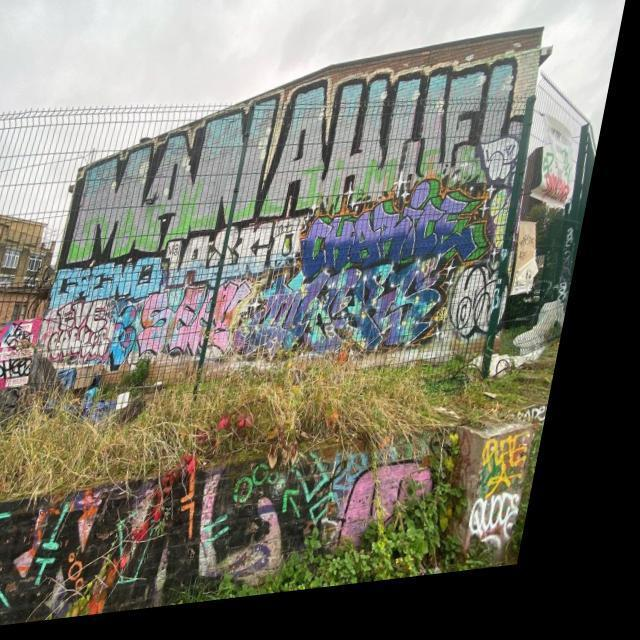-: (71, 60, 542, 269), (0, 464, 371, 636), (250, 263, 471, 376), (308, 205, 511, 292), (144, 286, 265, 375), (170, 229, 318, 291), (490, 446, 554, 556), (61, 260, 178, 314), (458, 272, 530, 354), (56, 306, 132, 372), (482, 147, 534, 200), (5, 356, 50, 384)
